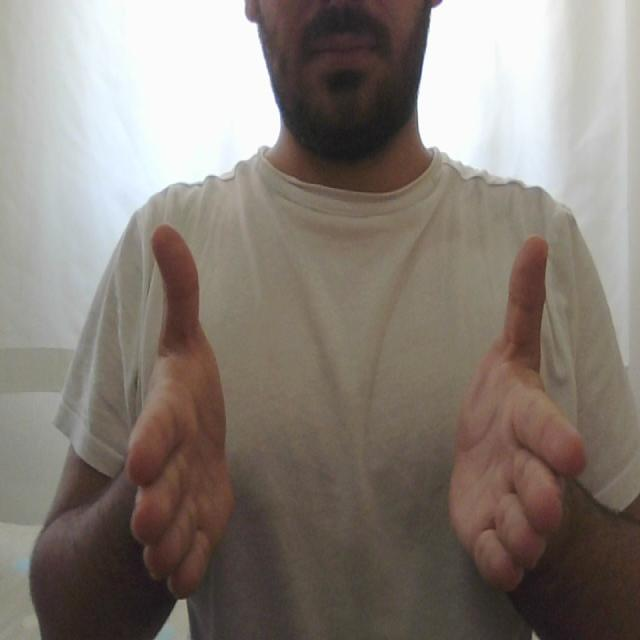Nasil: (122, 212, 588, 614)
